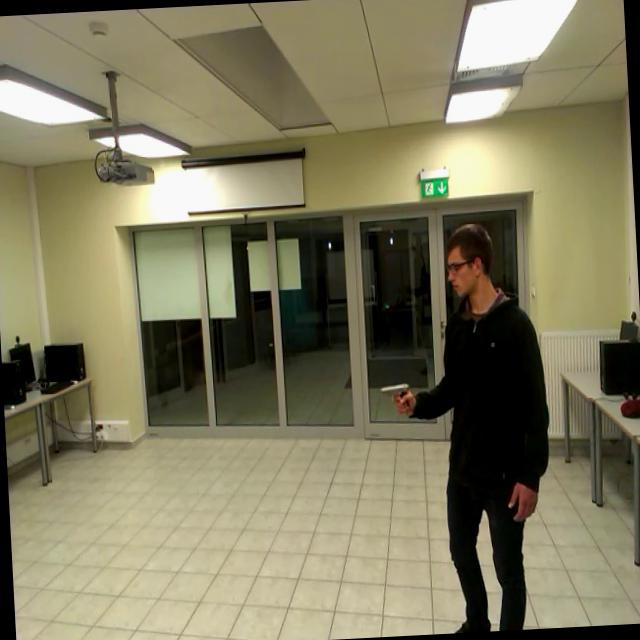handgun: (377, 366, 414, 418)
